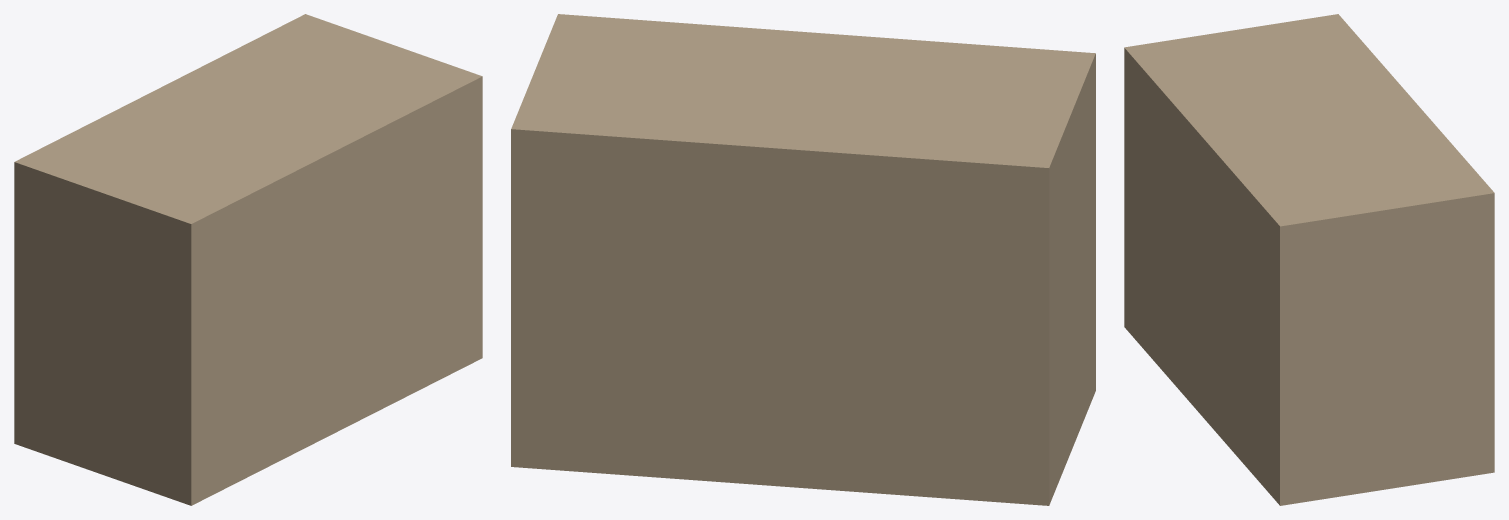
Rendered from bld_107715924.dae.
3 views of the same model, side by side, from view 1: azimuth 30°, elevation 25°; view 2: azimuth 150°, elevation 25°; view 3: azimuth 270°, elevation 25° (orthographic). The views are drawn at different scales.
Visible parts, largest first — view 1: bld_107715924; view 2: bld_107715924; view 3: bld_107715924.
Boxes of the visible parts, x1,y1,x2,y2 form: bld_107715924: [14, 14, 482, 505]; bld_107715924: [511, 14, 1095, 505]; bld_107715924: [1124, 14, 1494, 505].
Size of the model in its own units: 13.04 by 9.61 by 8.
